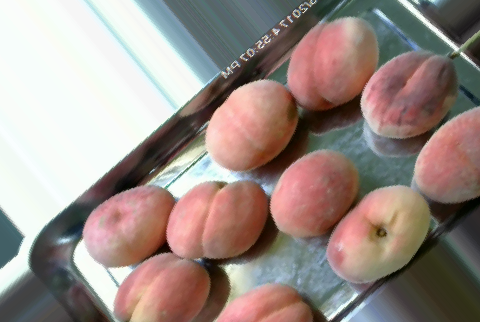Peach: (323, 184, 435, 285), (358, 47, 461, 140), (285, 16, 377, 110), (268, 149, 358, 241), (203, 80, 295, 170), (81, 183, 174, 268), (168, 181, 266, 261), (111, 255, 216, 318), (411, 108, 479, 203)
